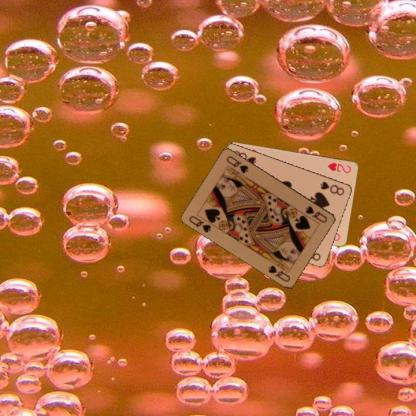2h: (325, 159, 352, 174)
8s: (318, 178, 345, 196)
Qs: (186, 213, 212, 234), (303, 204, 329, 224)
